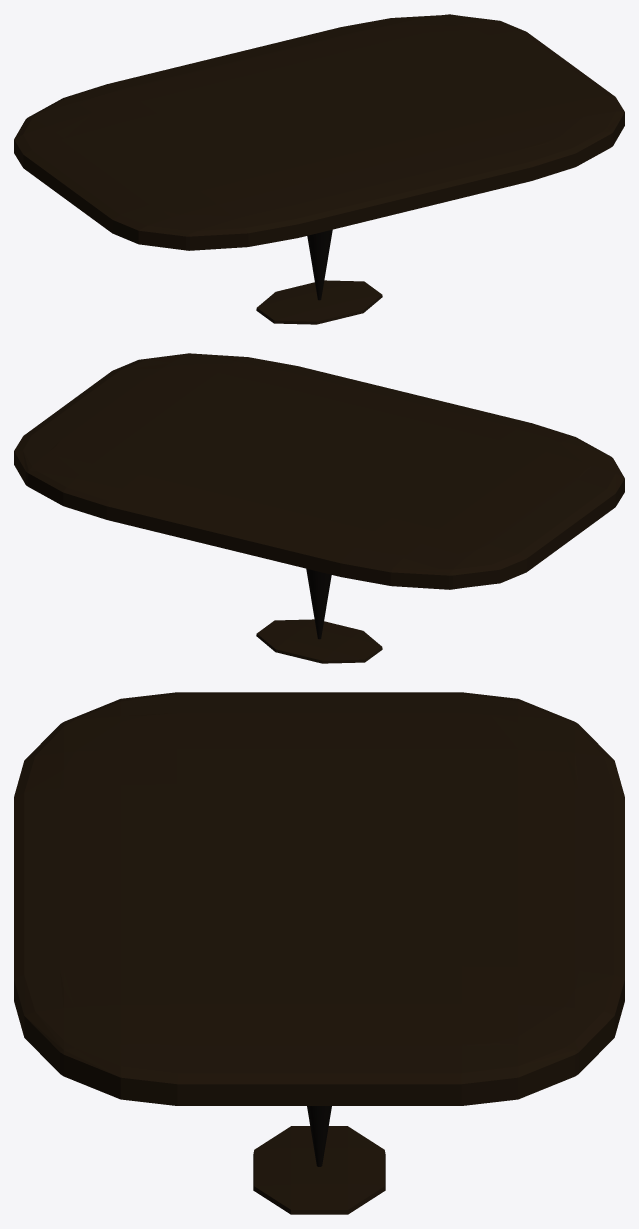
Rendered from table.obj.
3 renders of one model, top to bottom at view 1: azimuth 30°, elevation 25°; view 2: azimuth 150°, elevation 25°; view 3: azimuth 270°, elevation 25°, orthographic. The views are drawn at different scales.
Parts seen in each view (by area): view 1: Mball.002, Cone; view 2: Mball.002, Cone; view 3: Mball.002, Cone.
Boxes of the visible parts, <box> form: Mball.002: <box>14,14,624,324</box>; Cone: <box>307,229,332,300</box>; Mball.002: <box>14,353,624,663</box>; Cone: <box>306,568,331,639</box>; Mball.002: <box>14,692,624,1214</box>; Cone: <box>307,1106,331,1166</box>.
Bounding box in the file's own units: 11.19 × 4.08 × 7.37.
